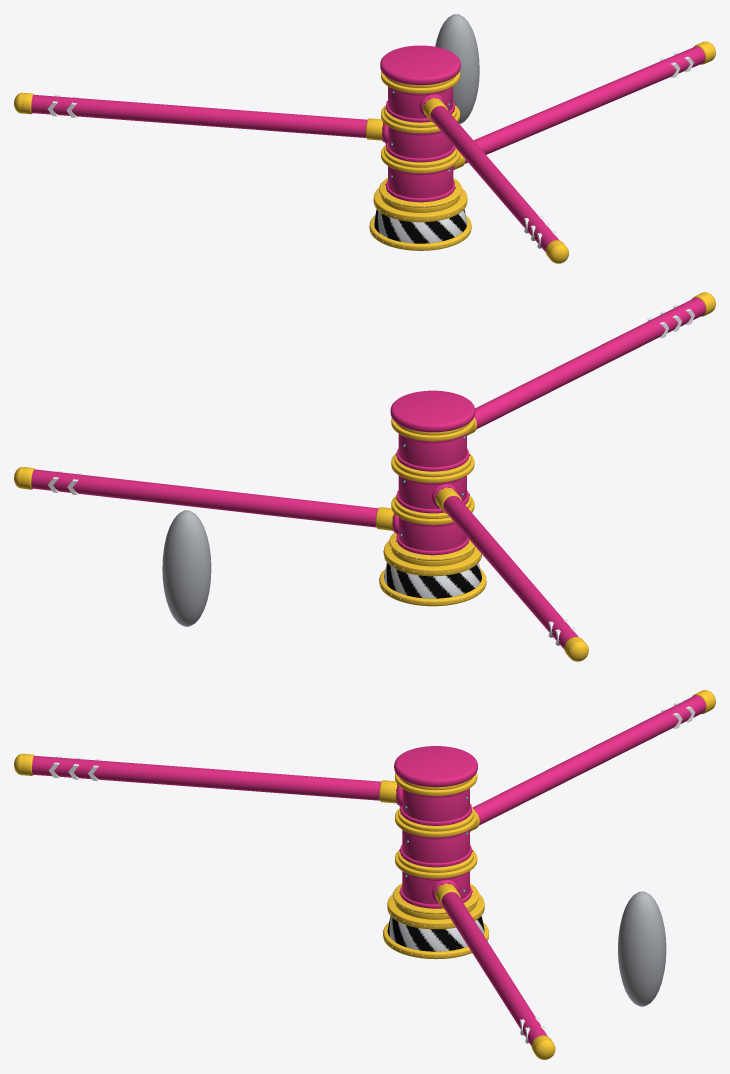
The model's file is DF_sweeper_3_arms.glb.
3 views of the same model, one above another, from view 1: azimuth 30°, elevation 25°; view 2: azimuth 150°, elevation 25°; view 3: azimuth 270°, elevation 25° (orthographic). The views are drawn at different scales.
Visible parts, largest first — view 1: Mid_Arm, Low_Arm, High_Arm, Tower_TopCap, ScaleReference_170cm, Base_HazardDrum, Low_Drum, Mid_Drum, Base_StackDisc_0, High_Drum, Base_GroundRing, Base_StackDisc_2 (+5 smaller); view 2: Low_Arm, High_Arm, ScaleReference_170cm, Mid_Arm, Tower_TopCap, Base_HazardDrum, High_Drum, Low_Drum, Base_StackDisc_0, Mid_Drum, Base_GroundRing, Base_StackDisc_2 (+2 smaller); view 3: High_Arm, Mid_Arm, ScaleReference_170cm, Low_Arm, Tower_TopCap, Base_HazardDrum, High_Drum, Mid_Drum, Low_Drum, Base_StackDisc_0, Base_GroundRing, Base_StackDisc_2 (+3 smaller).
Boxes of the visible parts, box(x1,y1,x2,y2) form: Mid_Arm: box(31, 95, 367, 137); Low_Arm: box(465, 46, 705, 163); High_Arm: box(430, 106, 559, 252); Tower_TopCap: box(380, 45, 460, 85); ScaleReference_170cm: box(435, 14, 479, 123); Base_HazardDrum: box(374, 209, 467, 243); Low_Drum: box(388, 166, 453, 198); Mid_Drum: box(388, 126, 452, 158); Base_StackDisc_0: box(373, 188, 467, 222); High_Drum: box(388, 86, 452, 118); Base_GroundRing: box(369, 215, 471, 250); Base_StackDisc_2: box(379, 178, 461, 207); Low_Arm: box(31, 469, 378, 527); High_Arm: box(474, 297, 705, 428); ScaleReference_170cm: box(162, 510, 211, 626); Mid_Arm: box(443, 496, 578, 649); Tower_TopCap: box(390, 390, 475, 432); Base_HazardDrum: box(384, 562, 481, 598); High_Drum: box(398, 434, 466, 467); Low_Drum: box(398, 517, 466, 550); Base_StackDisc_0: box(383, 540, 481, 576); Mid_Drum: box(398, 475, 466, 508); Base_GroundRing: box(379, 569, 486, 606); Base_StackDisc_2: box(389, 532, 474, 560); High_Arm: box(32, 755, 380, 800); Mid_Arm: box(472, 695, 705, 825); ScaleReference_170cm: box(618, 891, 666, 1006); Low_Arm: box(441, 892, 547, 1045); Tower_TopCap: box(394, 746, 477, 787); Base_HazardDrum: box(387, 916, 484, 951); High_Drum: box(402, 788, 469, 821); Mid_Drum: box(402, 830, 469, 862); Low_Drum: box(402, 871, 469, 904); Base_StackDisc_0: box(387, 894, 484, 929); Base_GroundRing: box(383, 922, 488, 959); Base_StackDisc_2: box(393, 883, 478, 914).
Size of the model in its own units: 10.13 by 2.62 by 9.54.
8 materials, 1 textured.
